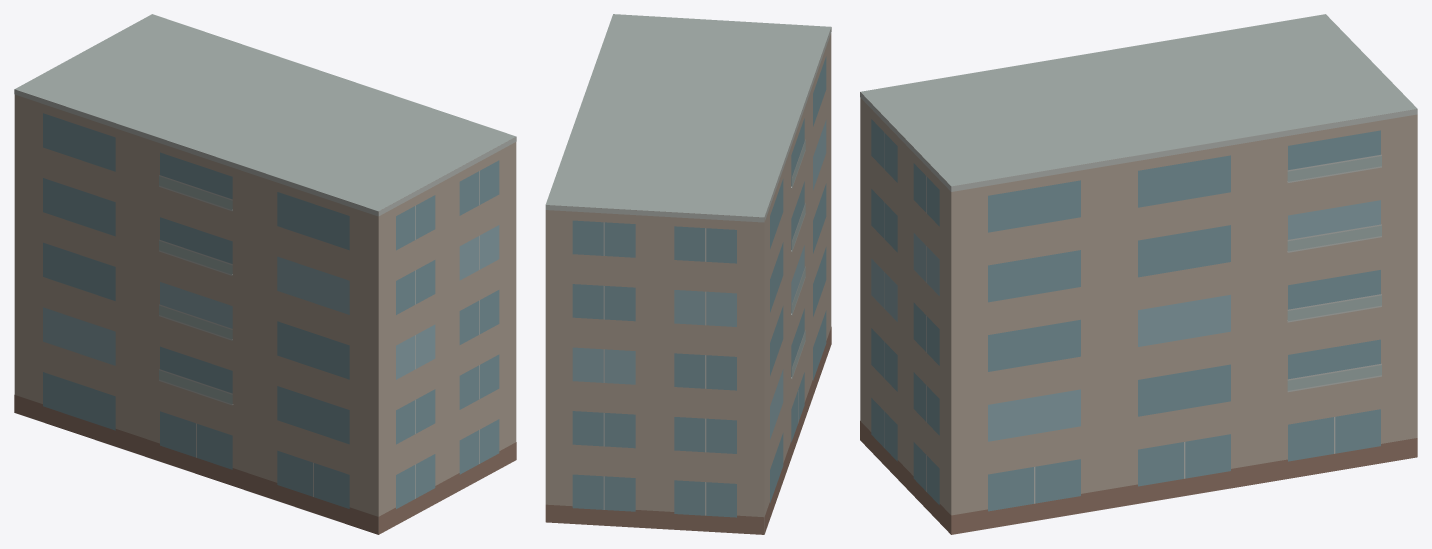
The model's file is survey-upis-32750233.glb.
3 renders of one model, left to right at view 1: azimuth 30°, elevation 25°; view 2: azimuth 150°, elevation 25°; view 3: azimuth 270°, elevation 25°, orthographic. The views are drawn at different scales.
Parts seen in each view (by area): view 1: survey-upis-32750233.tmp; view 2: survey-upis-32750233.tmp; view 3: survey-upis-32750233.tmp.
Boxes of the visible parts, x1,y1,x2,y2 form: survey-upis-32750233.tmp: (14, 14, 516, 534); survey-upis-32750233.tmp: (545, 14, 831, 534); survey-upis-32750233.tmp: (860, 14, 1417, 534).
Bounding box in the file's own units: 16.19 × 15.25 × 22.12.
